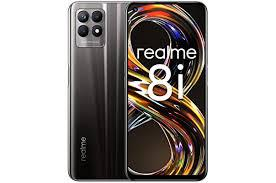Smartphone: (130, 5, 211, 183), (72, 1, 131, 179)
